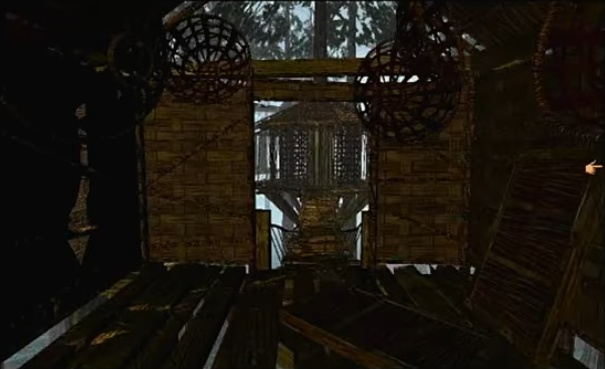Pointer: (583, 156, 604, 177)
